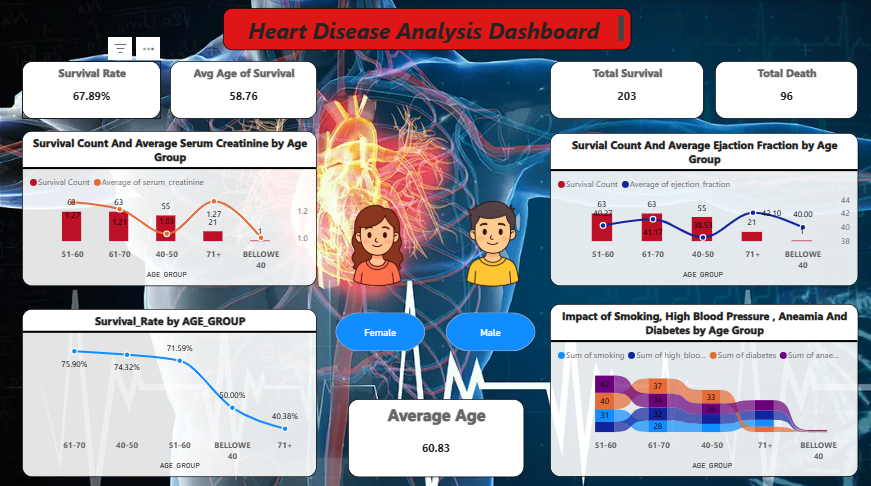

What the dashboard file says about the page in this screenshot:
{"tool":"powerbi","page":{"name":"Page 1","canvas":[1280,720],"ordinal":0},"visuals":[{"type":"textbox","box":[22,11.8,599.5,61.7],"z":0},{"type":"card","title":"Survival Rate","fields":{"Values":["heart_Disease_clinical_records_.Survival_Rate"]},"box":[452.6,89.6,157.2,69.1],"z":1000},{"type":"card","title":"Avg Age of Survival","fields":{"Values":["heart_Disease_clinical_records_.Average_Age_Survial"]},"box":[664.2,83.8,157.2,69.1],"z":2000},{"type":"card","title":"Total Survival","fields":{"Values":["heart_Disease_clinical_records_.Total_Surviour"]},"box":[864,89.6,174.9,74.9],"z":3000},{"type":"card","title":"Total Death","fields":{"Values":["heart_Disease_clinical_records_.Total_Death"]},"box":[1087.3,89.6,161.6,74.9],"z":4000},{"type":"lineClusteredColumnComboChart","title":"Survival Count And Average Serum Creatinine by Age Group","fields":{"Y":["CountNonNull(heart_Disease_clinical_records_.DEATH_EVENT)"],"Category":["heart_Disease_clinical_records_.AGE_GROUP"],"Y2":["Avg(heart_Disease_clinical_records_.serum_creatinine)"]},"box":[452.6,195.4,389.4,227.8],"z":5000},{"type":"lineClusteredColumnComboChart","title":"Survial Count And Average Ejaction Fraction by Age Group ","fields":{"Category":["heart_Disease_clinical_records_.AGE_GROUP"],"Y":["CountNonNull(heart_Disease_clinical_records_.DEATH_EVENT)"],"Y2":["Avg(heart_Disease_clinical_records_.ejection_fraction)"]},"box":[864,195.4,396.7,213.1],"z":6000},{"type":"lineChart","fields":{"Category":["heart_Disease_clinical_records_.AGE_GROUP"],"Y":["heart_Disease_clinical_records_.Survival_Rate"]},"box":[452.6,446.7,389.4,246.9],"z":7000},{"type":"ribbonChart","title":"Impact of Smoking, High Blood Pressure , Aneamia And Diabetes by Age Group","fields":{"Y":["Sum(heart_Disease_clinical_records_.smoking)","Sum(heart_Disease_clinical_records_.high_blood_pressure)","Sum(heart_Disease_clinical_records_.diabetes)","Sum(heart_Disease_clinical_records_.anaemia)"],"Category":["heart_Disease_clinical_records_.AGE_GROUP"]},"box":[878.7,459.9,382,221.9],"z":8000},{"type":"advancedSlicerVisual","fields":{"Values":["heart_Disease_clinical_records_.Gender"]},"box":[120.5,598,305.6,67.6],"z":9000}]}

Visuals, with their boxes in screenshot pixels (x1, y1, x2, y2), scaled from the page's 1280x720 canvas onto the 871x486 screenshot:
textbox: box(15, 8, 423, 50)
"Survival Rate" card: box(308, 60, 415, 107)
"Avg Age of Survival" card: box(452, 57, 559, 103)
"Total Survival" card: box(588, 60, 707, 111)
"Total Death" card: box(740, 60, 850, 111)
"Survival Count And Average Serum Creatinine by Age Group" lineClusteredColumnComboChart: box(308, 132, 573, 286)
"Survial Count And Average Ejaction Fraction by Age Group " lineClusteredColumnComboChart: box(588, 132, 858, 276)
lineChart - heart_Disease_clinical_records_.AGE_GROUP x heart_Disease_clinical_records_.Survival_Rate: box(308, 302, 573, 468)
"Impact of Smoking, High Blood Pressure , Aneamia And Diabetes by Age Group" ribbonChart: box(598, 310, 858, 460)
advancedSlicerVisual - heart_Disease_clinical_records_.Gender: box(82, 404, 290, 449)
